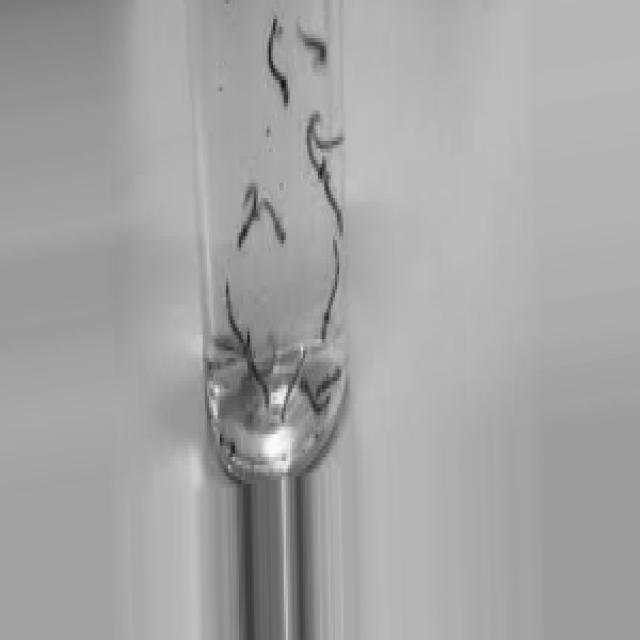larvas: (268, 16, 290, 109), (321, 239, 338, 337), (246, 332, 269, 399), (281, 353, 301, 419), (324, 175, 346, 232), (225, 280, 244, 346), (300, 22, 329, 65), (304, 110, 320, 180), (238, 185, 256, 244), (264, 203, 285, 245), (315, 366, 340, 395), (314, 131, 345, 151), (299, 380, 316, 410)
